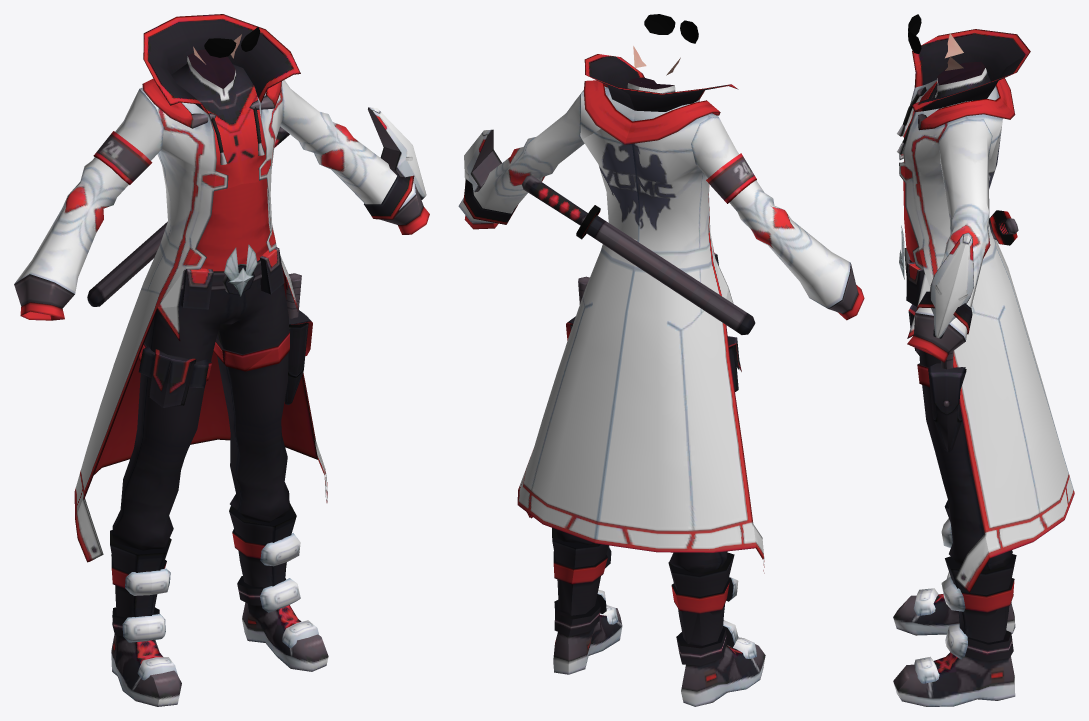
File: nanzhuang2.FBX
3 renders of one model, left to right at view 1: azimuth 30°, elevation 25°; view 2: azimuth 150°, elevation 25°; view 3: azimuth 270°, elevation 25°, orthographic. The views are drawn at different scales.
Visible parts, largest first — view 1: nan_04_new; view 2: nan_04_new; view 3: nan_04_new.
Boxes of the visible parts, x1=… form: nan_04_new: x1=14, y1=14, x2=429, y2=706; nan_04_new: x1=458, y1=14, x2=864, y2=706; nan_04_new: x1=893, y1=14, x2=1074, y2=706.
Bounding box in the file's own units: 8.38 × 12.89 × 3.33.
Materials: 1 (1 with a texture image).
